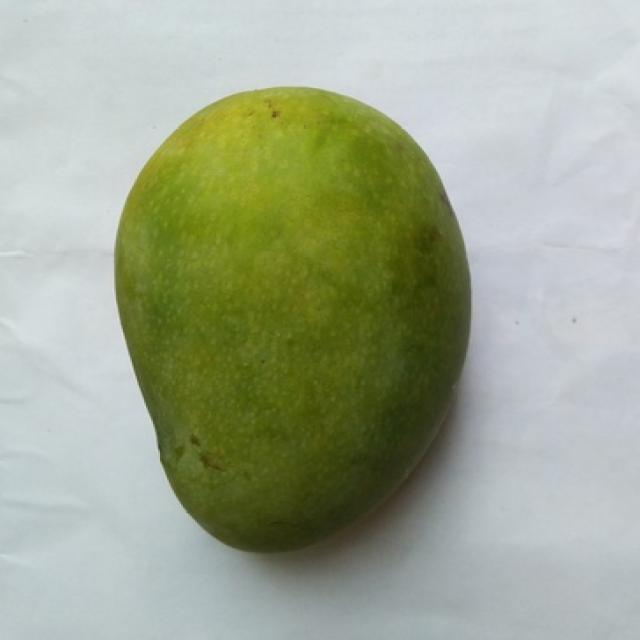Mango: (116, 87, 469, 552)
